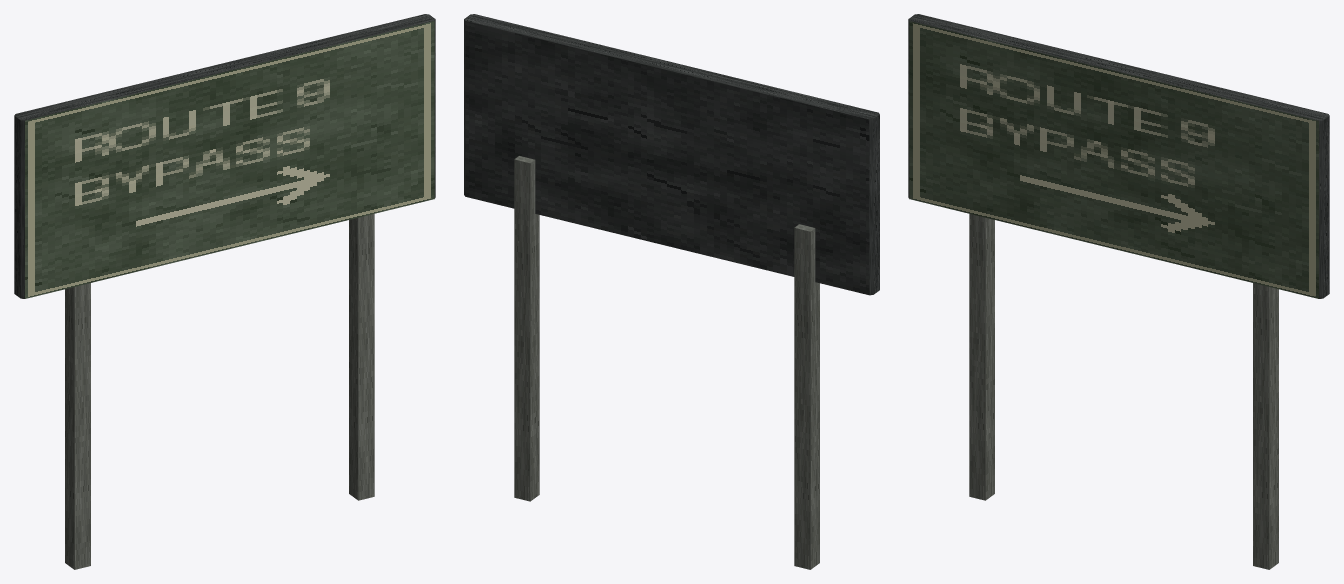
File: roadside_sign.glb
3 renders of one model, left to right at view 1: azimuth 30°, elevation 25°; view 2: azimuth 150°, elevation 25°; view 3: azimuth 330°, elevation 25°, orthographic.
Parts seen in each view (by area): view 1: Body; view 2: Body; view 3: Body.
Boxes of the visible parts, <box> form: Body: <box>14,14,435,569</box>; Body: <box>464,14,879,569</box>; Body: <box>908,14,1329,569</box>.
Bounding box in the file's own units: 1.9 × 2.04 × 0.115.
Materials: 1 (1 with a texture image).
